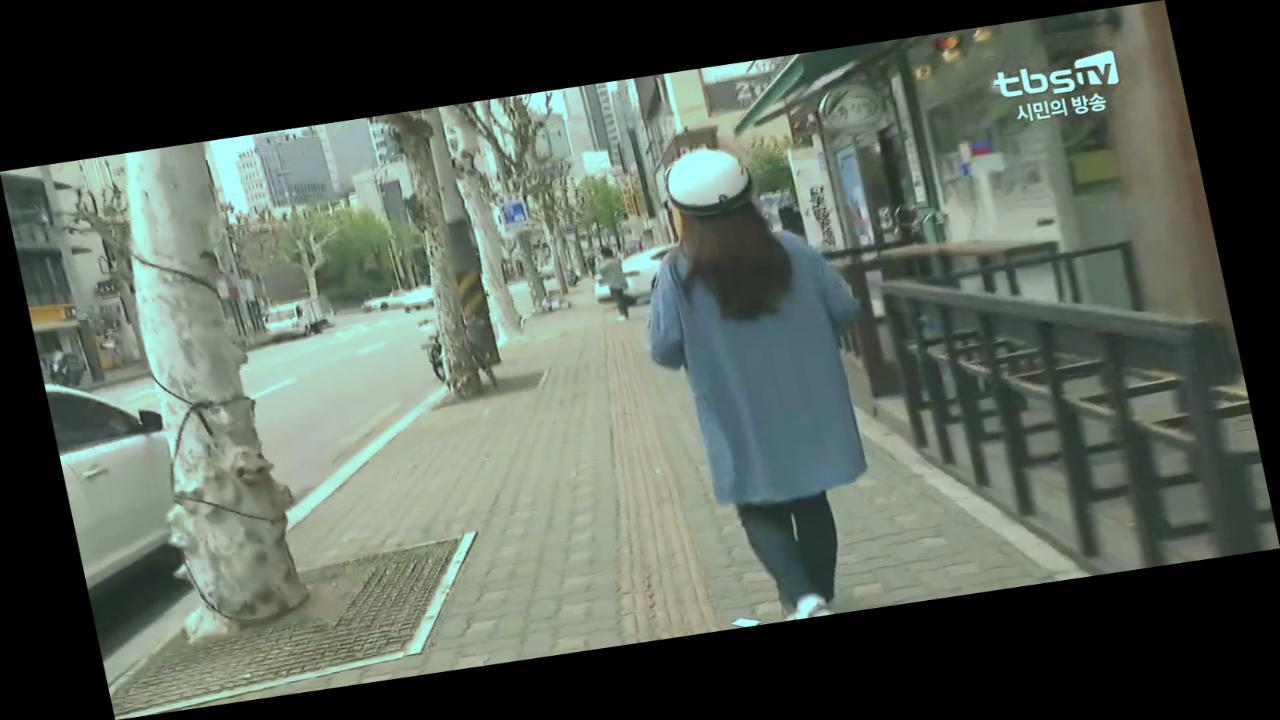helmet: (605, 128, 926, 633)
